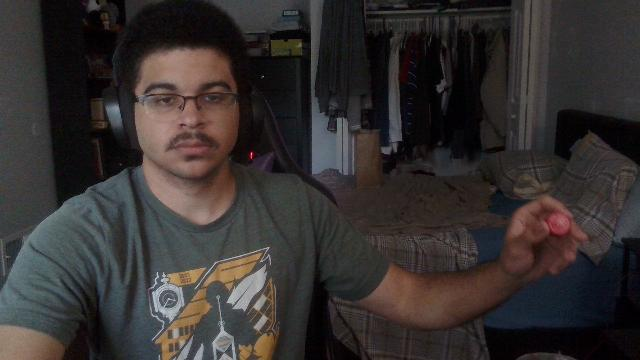cap: (546, 213, 570, 237)
